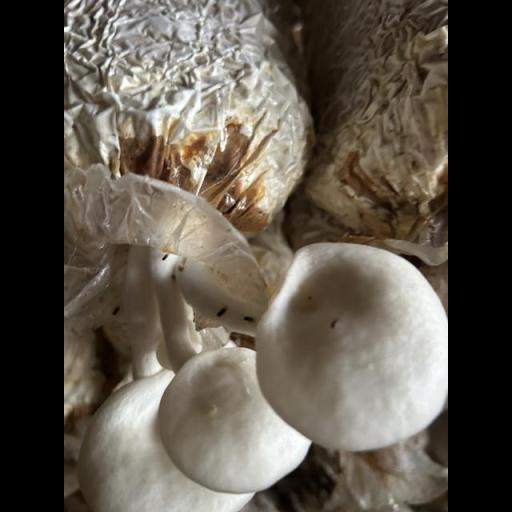White Oyster Mushroom: (65, 237, 448, 512)
